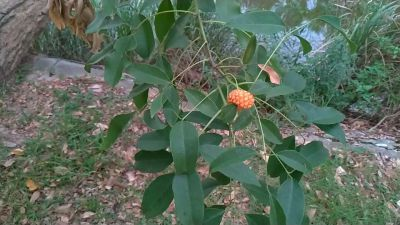eggs: (228, 87, 256, 112)
